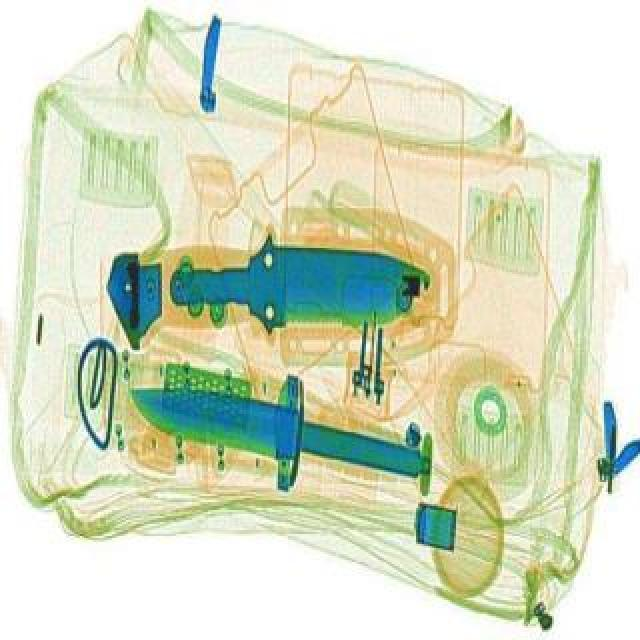knife: (116, 342, 446, 512), (166, 224, 430, 338)
